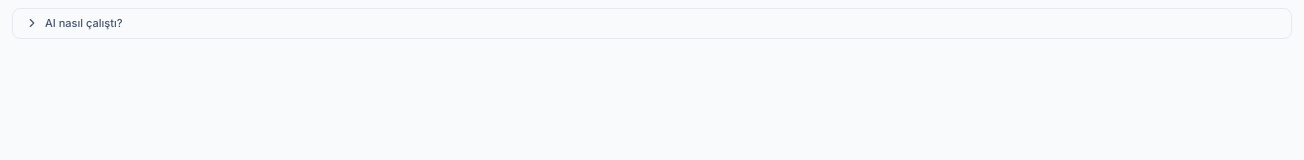
AiExplainPanel › collapses repeated identical tool calls into one line with a count
The width and height of the screenshot is (1304, 160).
Click the button "AI nasıl çalıştı?" at x=84, y=23, box [13,9,1291,38]
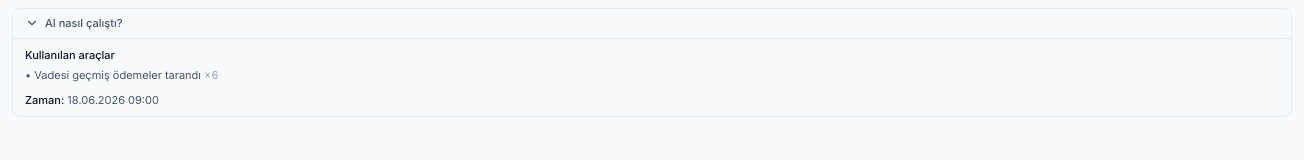
Expected: the number of list items is 1, [25,68,218,82]
Expected: the text "Vadesi geçmiş ödemeler tarandı" is shown, [34,68,201,82]
Expected: the text "×6" is shown, [201,68,218,82]
